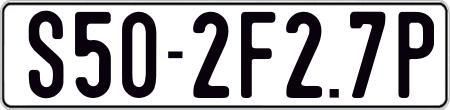0: (121, 12, 156, 102)
2: (193, 12, 234, 100), (285, 12, 325, 99)
5: (73, 9, 111, 99)
7: (348, 9, 384, 95)
F: (239, 9, 274, 100)
P: (396, 10, 435, 99)
S: (29, 10, 64, 99)
